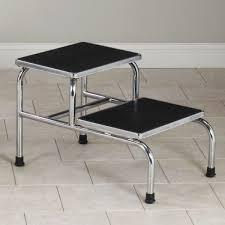stool: (12, 40, 218, 205)
